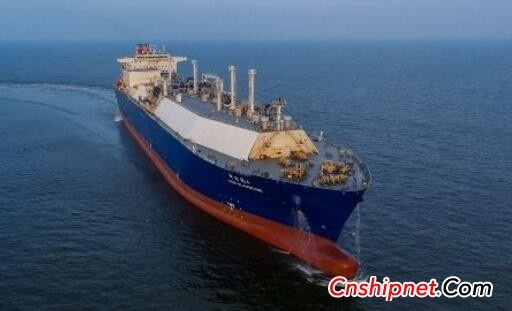Cargoship: (111, 40, 369, 277)
